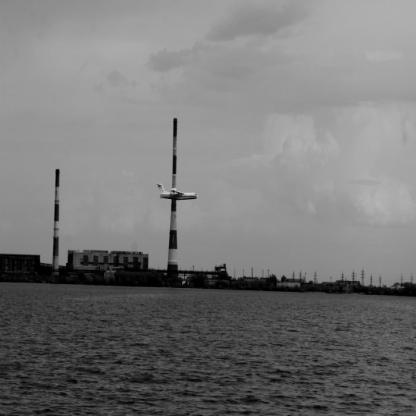Be200: (157, 184, 200, 202)
